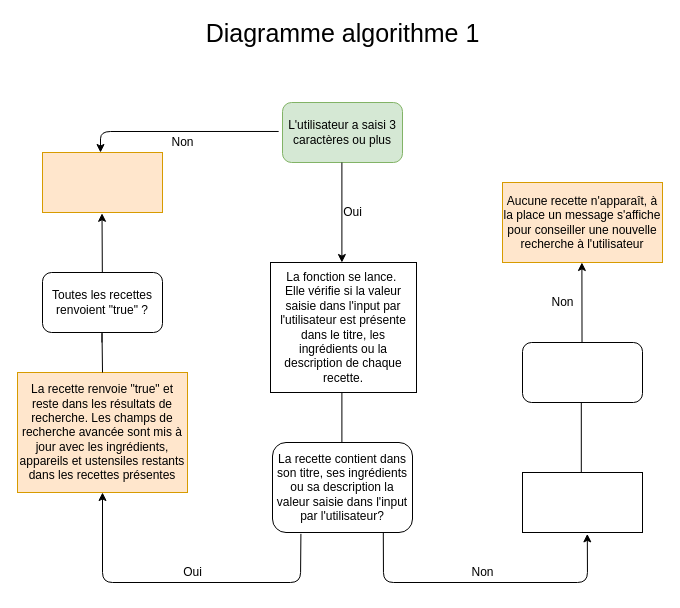
The diagram is 680 pixels wide and 608 high, and some of its shapes have lost their labels. Each missing label, with the centre of its shape:
La recette renvoie "false" et disparaît des résultats de recherche.: point (582, 502)
Toutes les recettes renvoient "false" ?: point (582, 372)
Toutes les recettes restent affichées.: point (102, 182)
